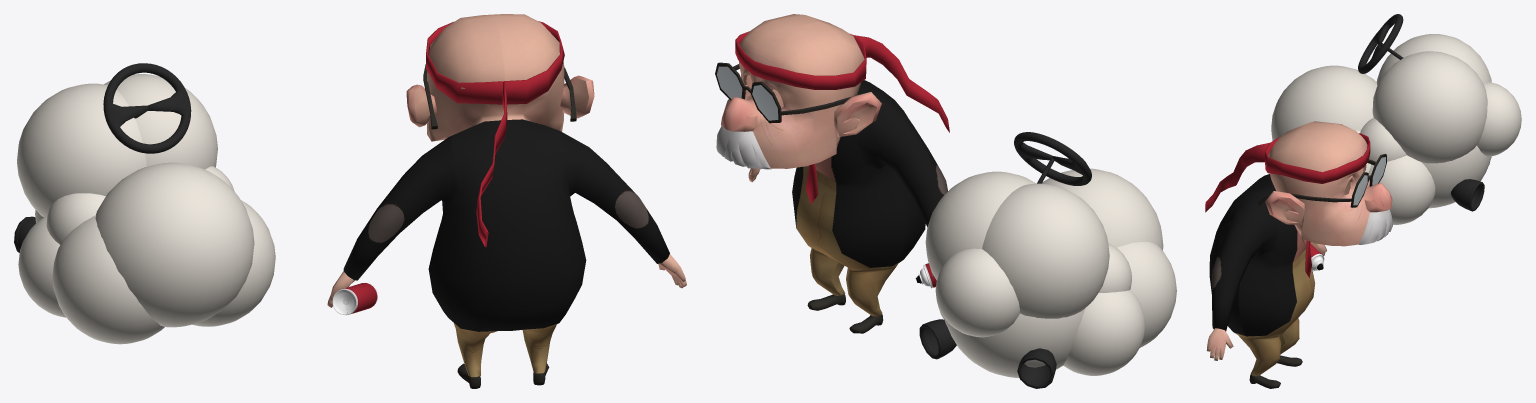
The model's file is erwin.gltf.
3 renders of one model, left to right at view 1: azimuth 30°, elevation 25°; view 2: azimuth 150°, elevation 25°; view 3: azimuth 270°, elevation 25°, orthographic. The views are drawn at different scales.
Parts seen in each view (by area): view 1: Erw_Body, Cloud, Erw_Body.003, Manche volant, Paint_Can, Erw_Glasses; view 2: Cloud, Erw_Body, Erw_Body.003, Manche volant, Erw_Glasses, Erw_Mustache, car_body.000, car_body.015; view 3: Cloud, Erw_Body, Erw_Body.003, Manche volant, Erw_Glasses, car_body.015, Erw_Mustache, Paint_Can.
Boxes of the visible parts, x1,y1,x2,y2 form: Erw_Body: (327, 14, 686, 388); Cloud: (17, 74, 275, 344); Erw_Body.003: (426, 21, 564, 247); Manche volant: (103, 63, 191, 153); Paint_Can: (332, 282, 377, 315); Erw_Glasses: (423, 64, 576, 129); Cloud: (925, 168, 1176, 377); Erw_Body: (721, 14, 947, 333); Erw_Body.003: (735, 31, 949, 132); Manche volant: (1014, 132, 1091, 185); Erw_Glasses: (715, 62, 884, 123); Erw_Mustache: (716, 126, 771, 169); car_body.000: (1017, 348, 1056, 388); car_body.015: (919, 319, 956, 359); Cloud: (1271, 34, 1521, 224); Erw_Body: (1206, 121, 1392, 388); Erw_Body.003: (1205, 133, 1370, 212); Manche volant: (1358, 14, 1403, 73); Erw_Glasses: (1257, 154, 1386, 207); car_body.015: (1450, 179, 1484, 211); Erw_Mustache: (1358, 209, 1392, 244); Paint_Can: (1310, 243, 1324, 271).
Bounding box in the file's own units: 66.61 × 39.2 × 44.43.
5 materials, 2 textured.
